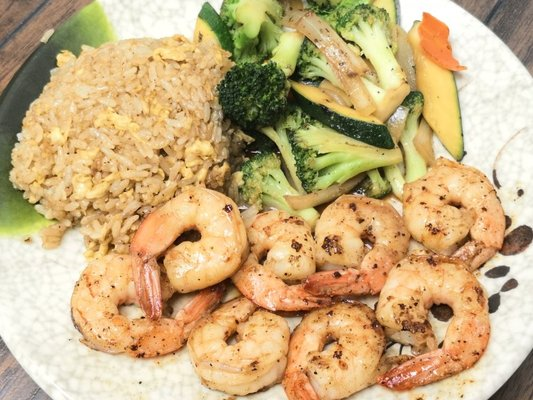curry: (211, 1, 404, 214)
